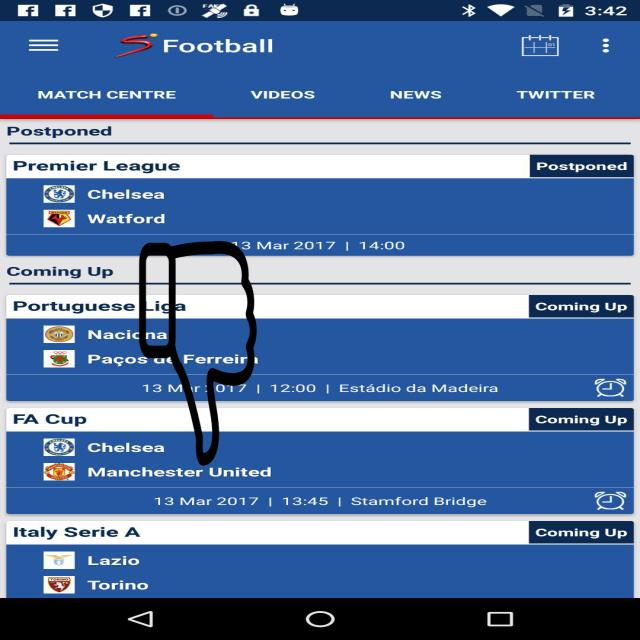obstruction: (138, 241, 258, 466)
